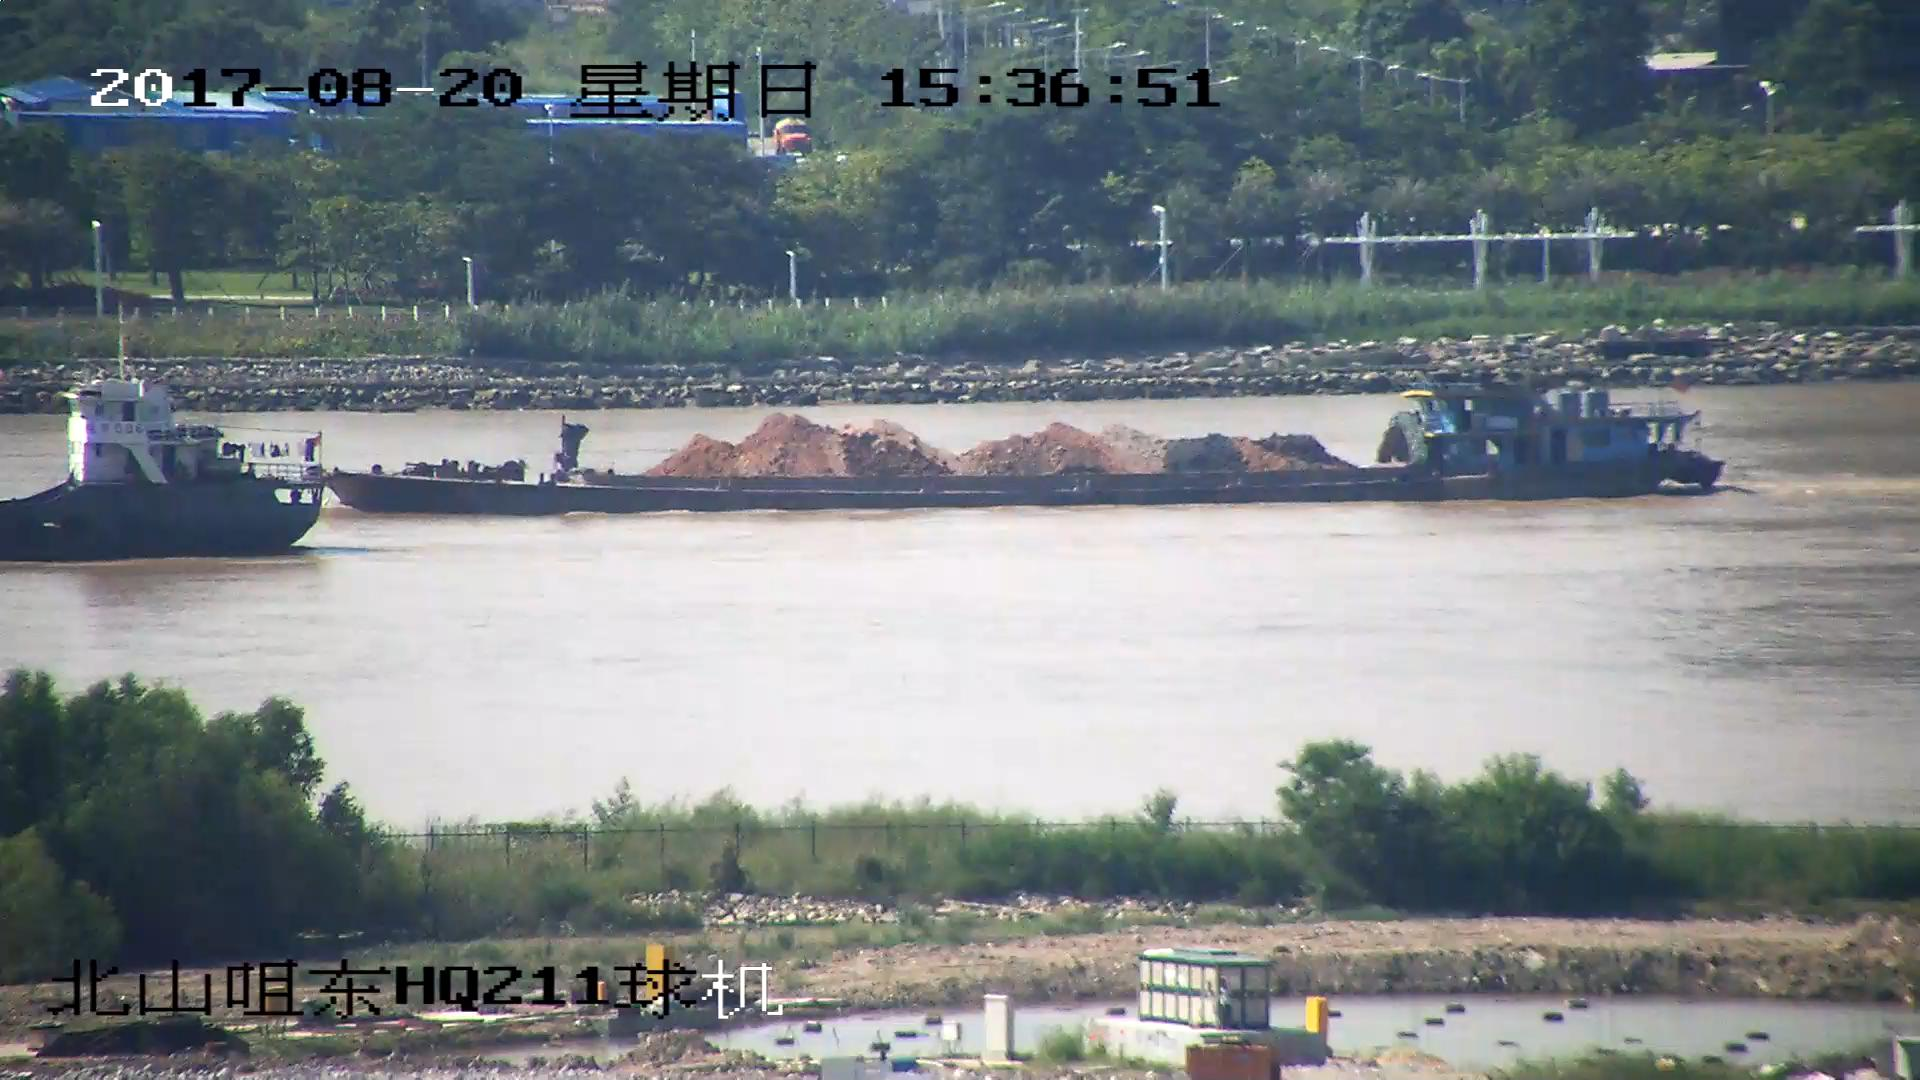general cargo ship: (1, 316, 340, 571)
ore carrier: (304, 327, 1742, 510)
